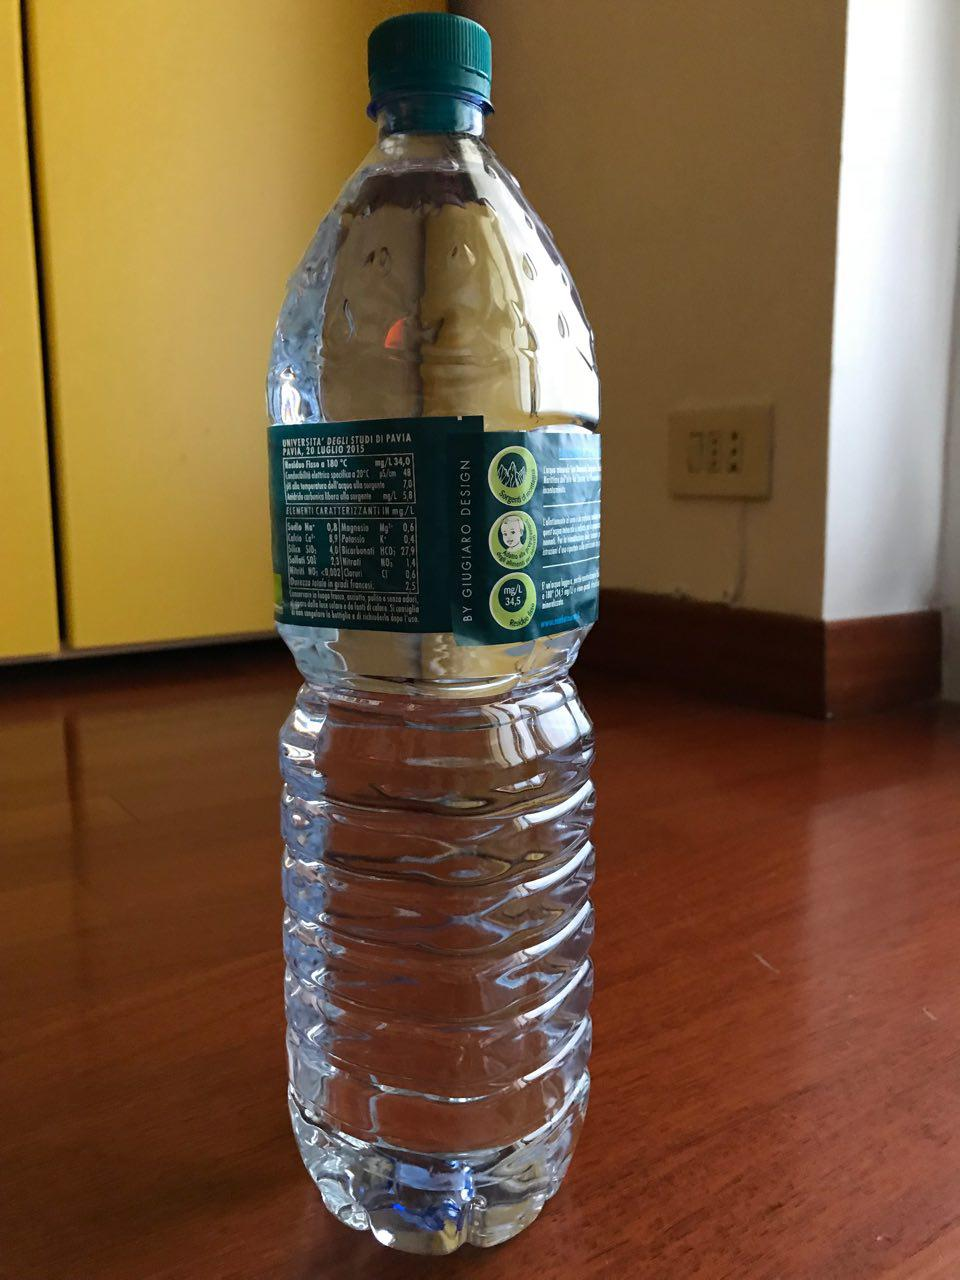san_bernardo: (264, 10, 606, 1258)
